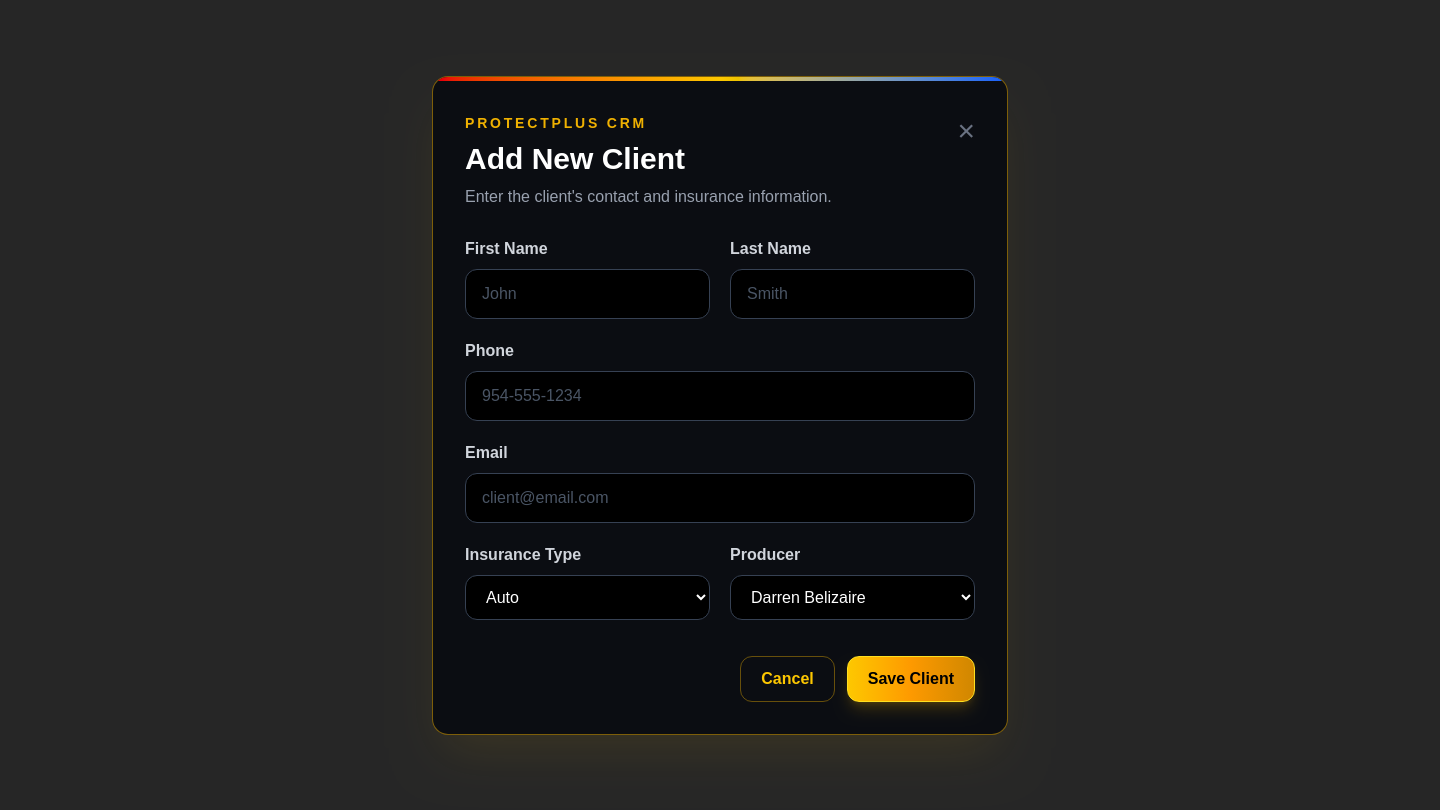
Test case: AddClientModal › clears the form when cancelled, so the next open starts blank
Type "Should Not Persist" into the field with placeholder "John" at point(588, 294), box [465,268,710,318]
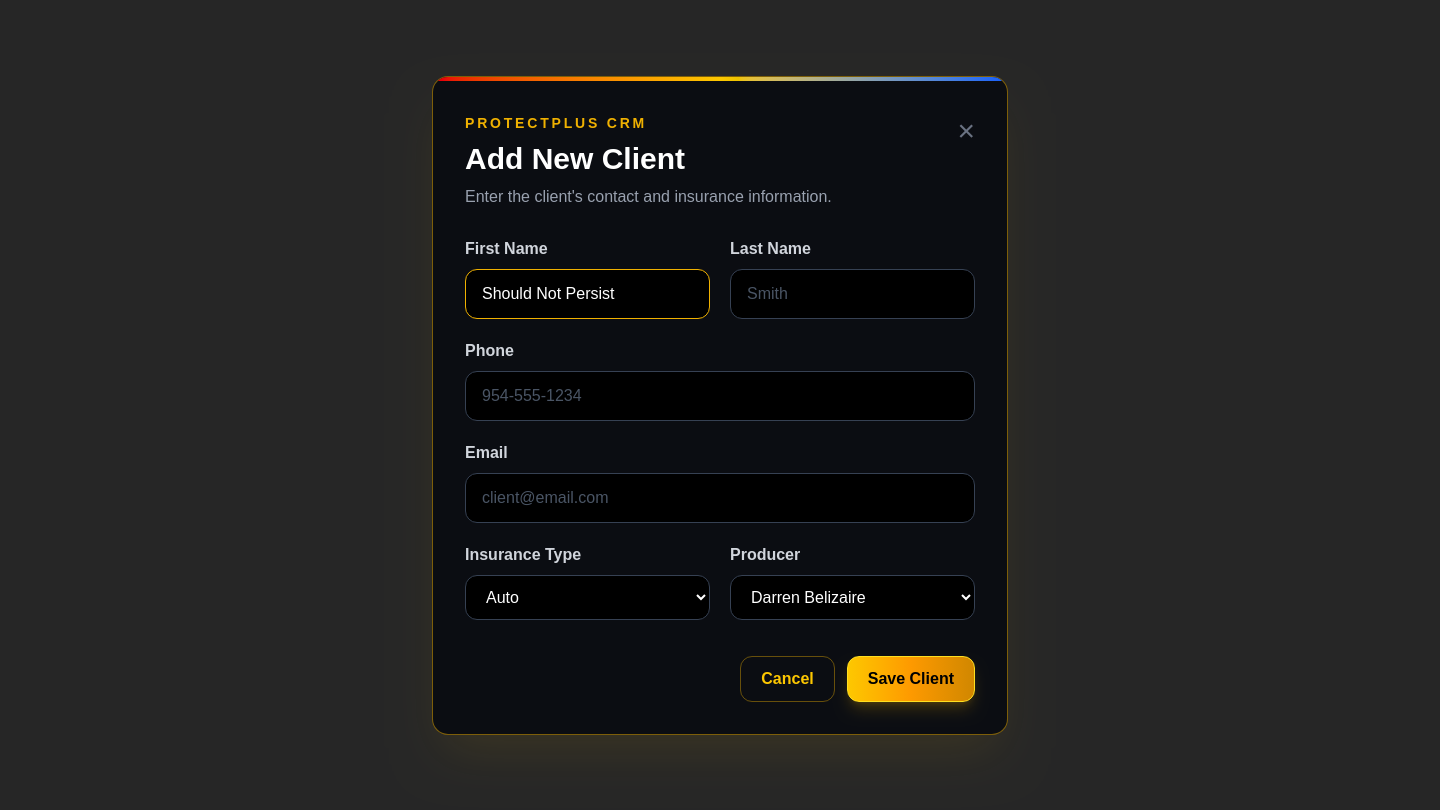
Click the button "Cancel" at point(788, 678), box [740,656,835,702]
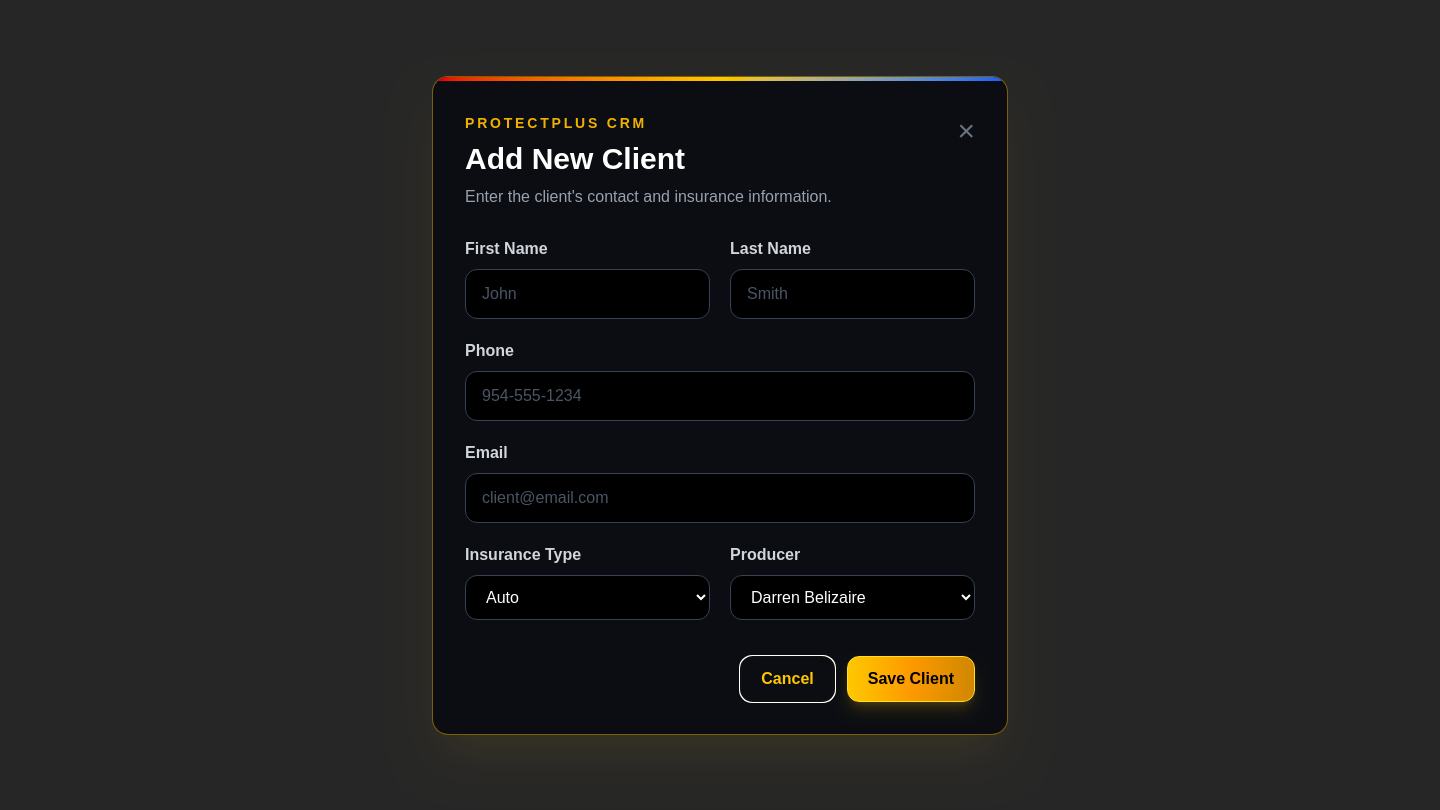
Expected: the field with placeholder "John" is empty, [465,268,710,318]
